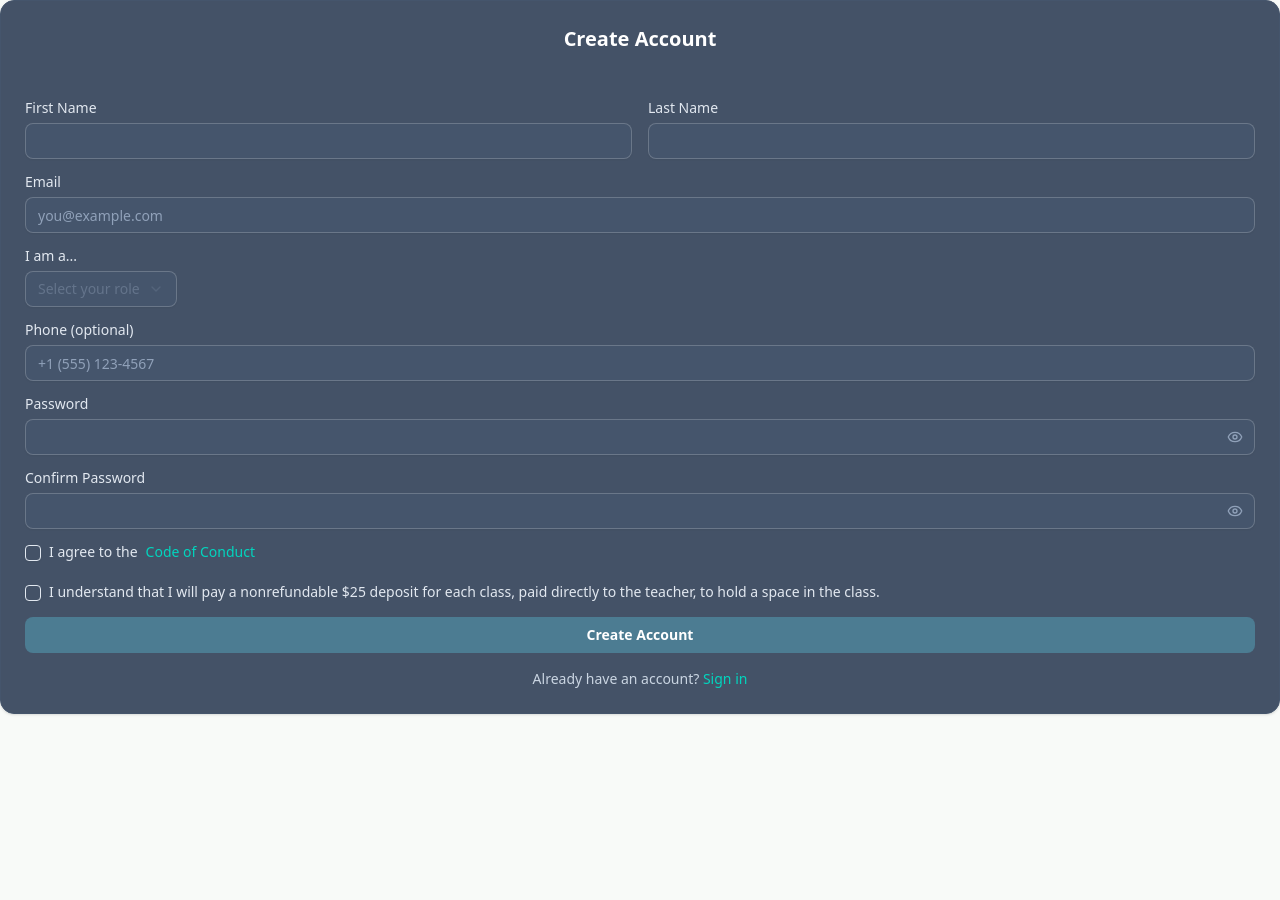
Test: RegisterForm › validates code of conduct requirement
Click the button "Create Account" at (640, 635), box [25,617,1255,653]
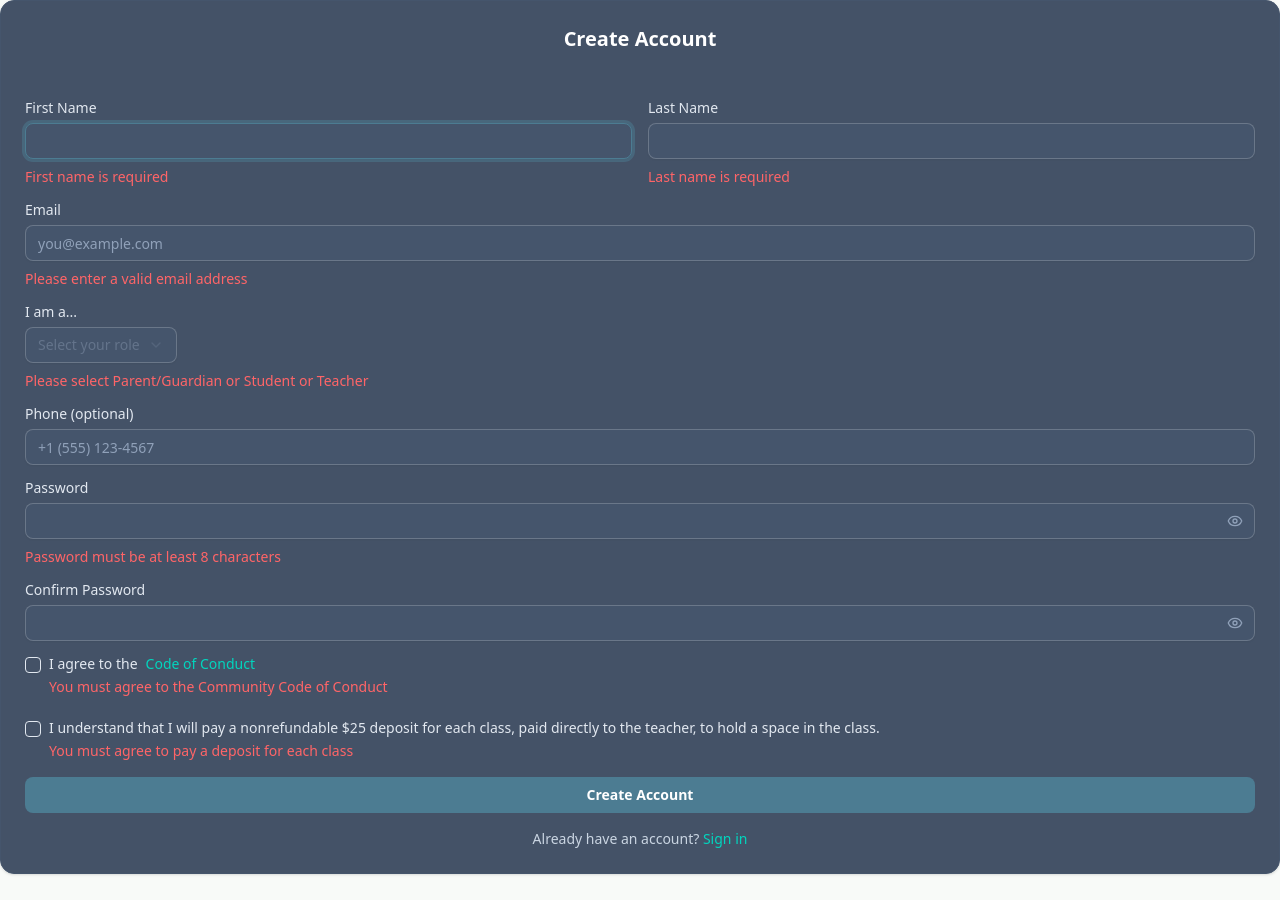
Check: the text "You must agree to the Community Code of Conduct" is shown, box [49,677,388,697]
Click the checkbox named "code of conduct" next to "I agree to the" at (33, 665), box [25,657,41,673]
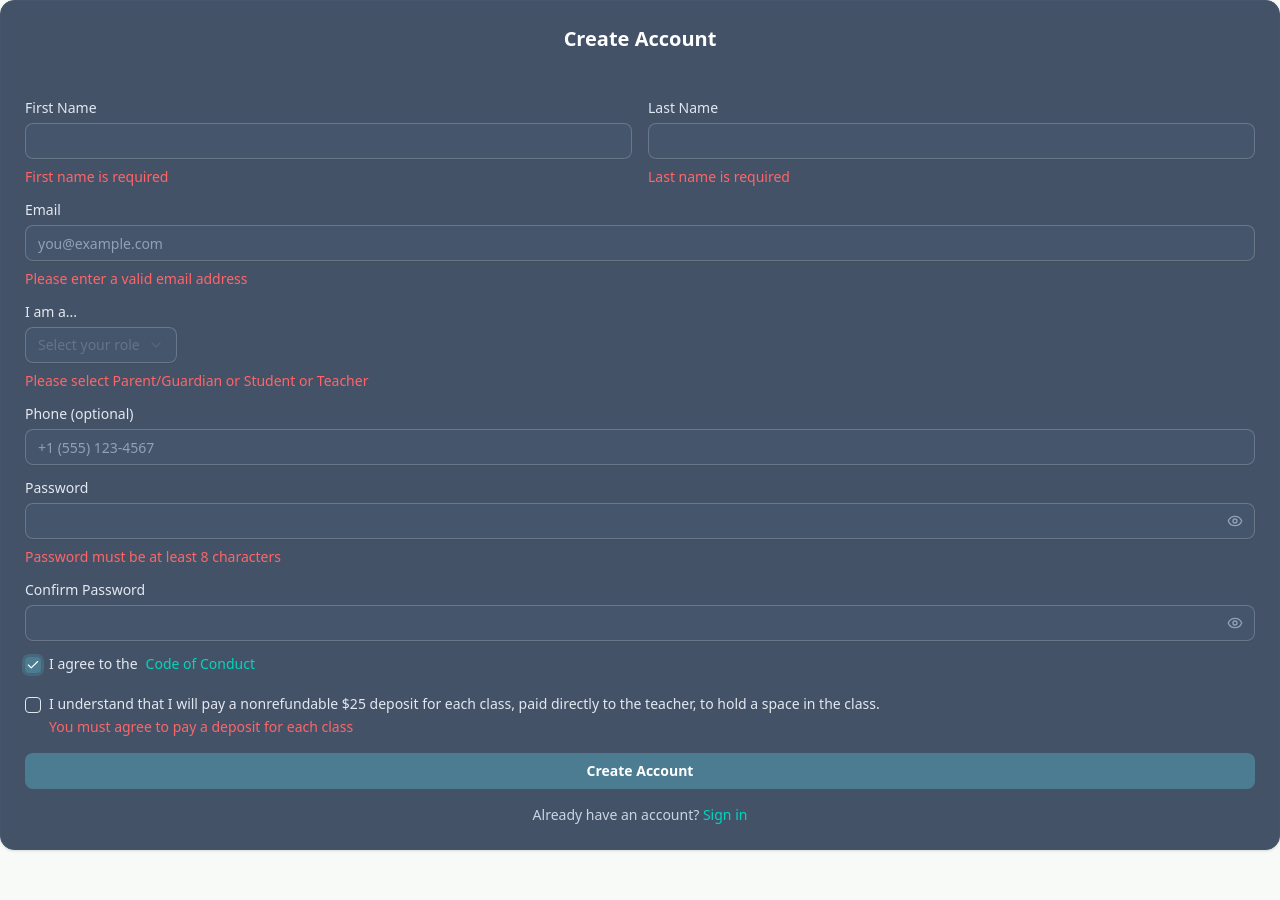
Check: the text "You must agree to the Community Code of Conduct" is gone
